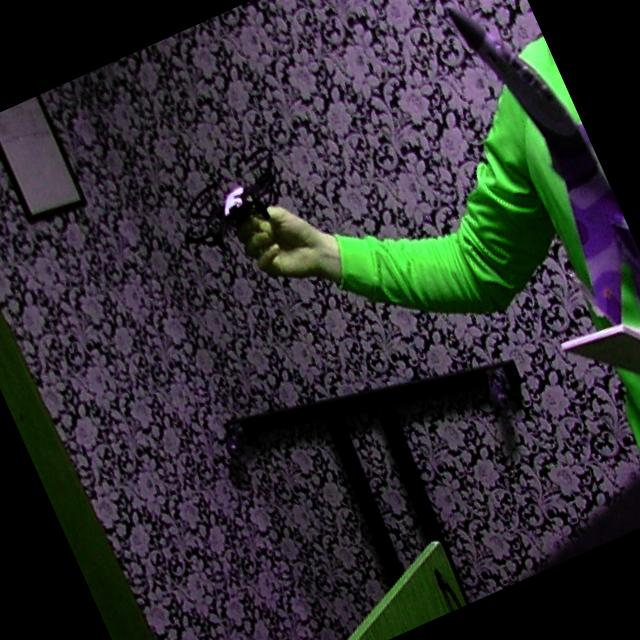drone: (154, 126, 316, 270)
